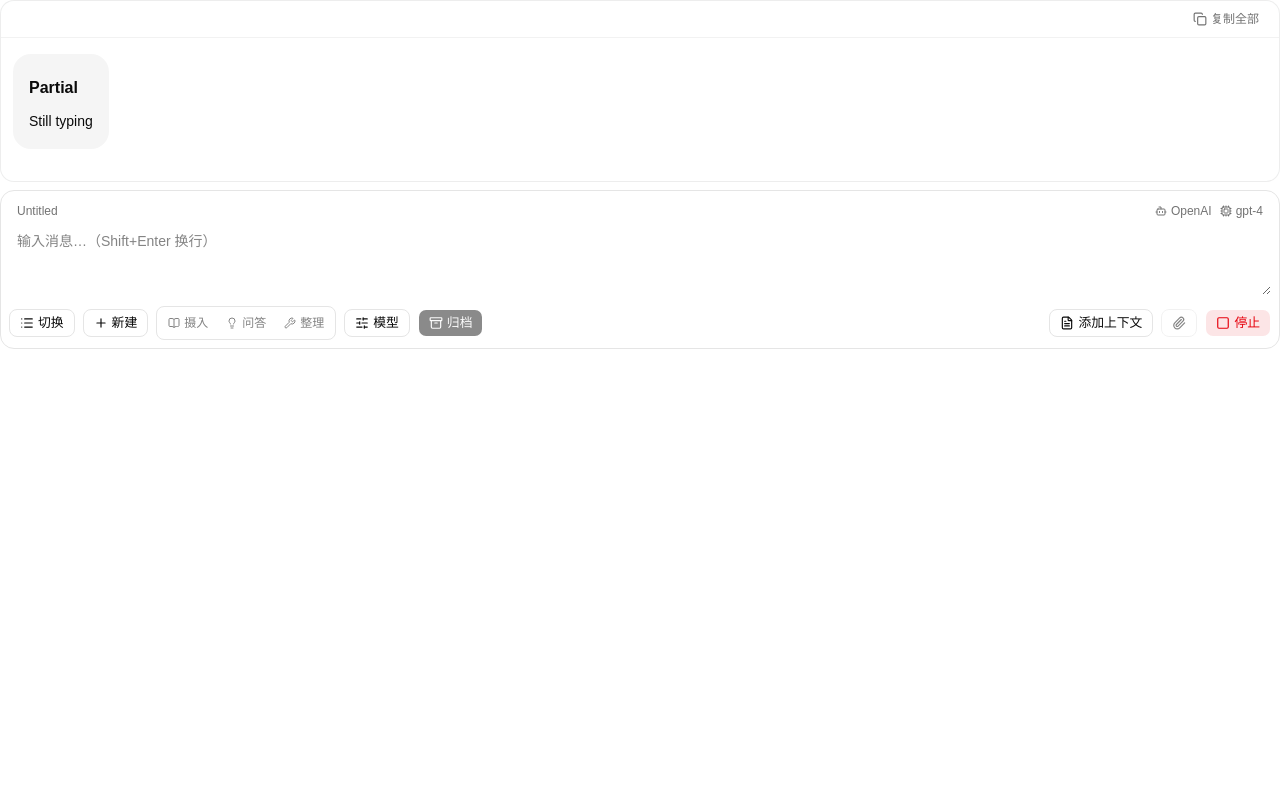
Scenario: IngestChat › opens context dialog from composer button
Click the button with test id "context-input-open": (1101, 322) [1049,308,1153,336]
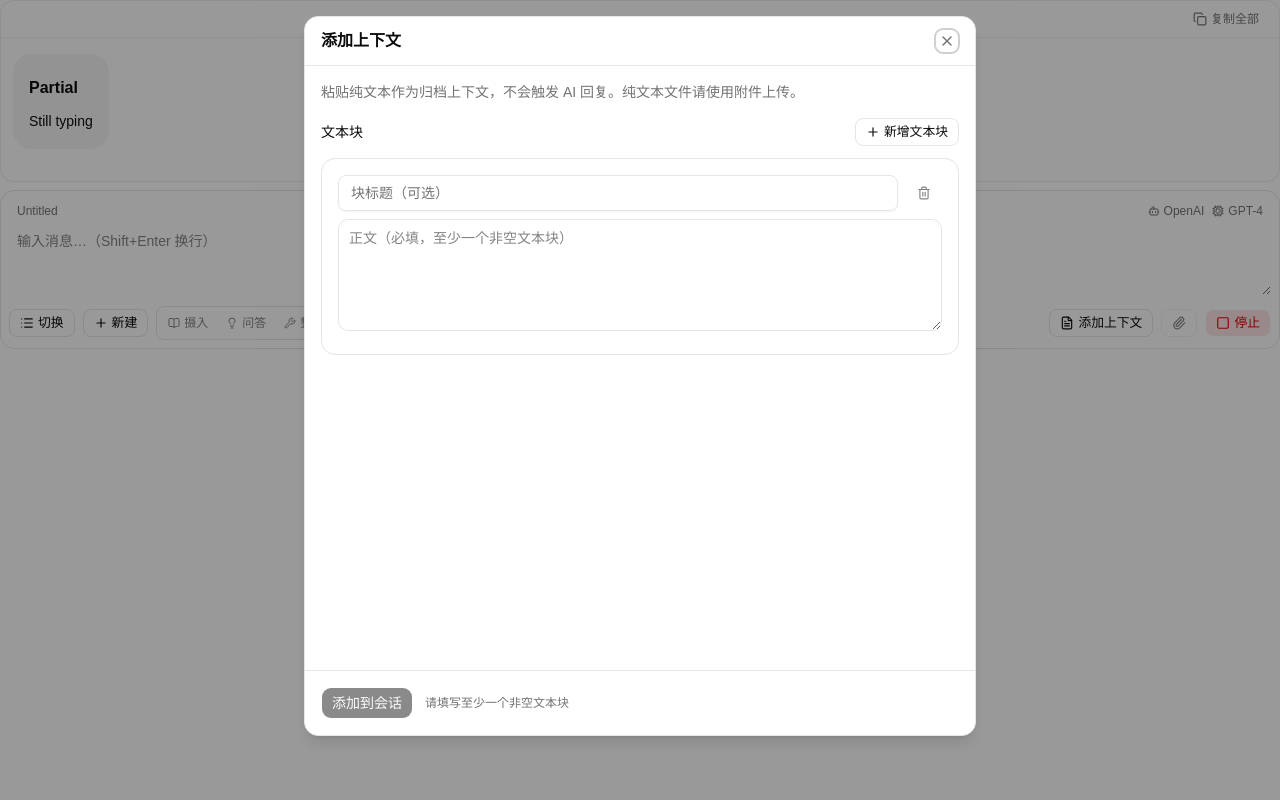
Now the dialog with test id "context-input-dialog" is shown, box [304,16,976,736]
